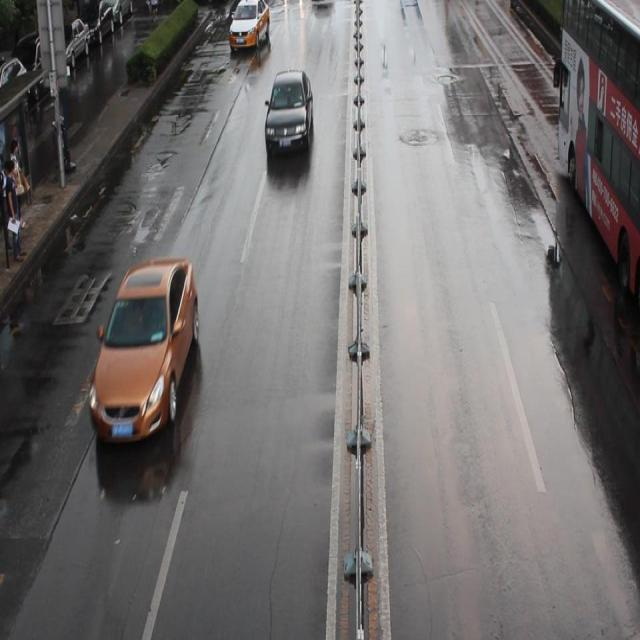car: (89, 254, 199, 444), (264, 70, 313, 152), (227, 1, 270, 49)
van: (555, 1, 640, 306)
